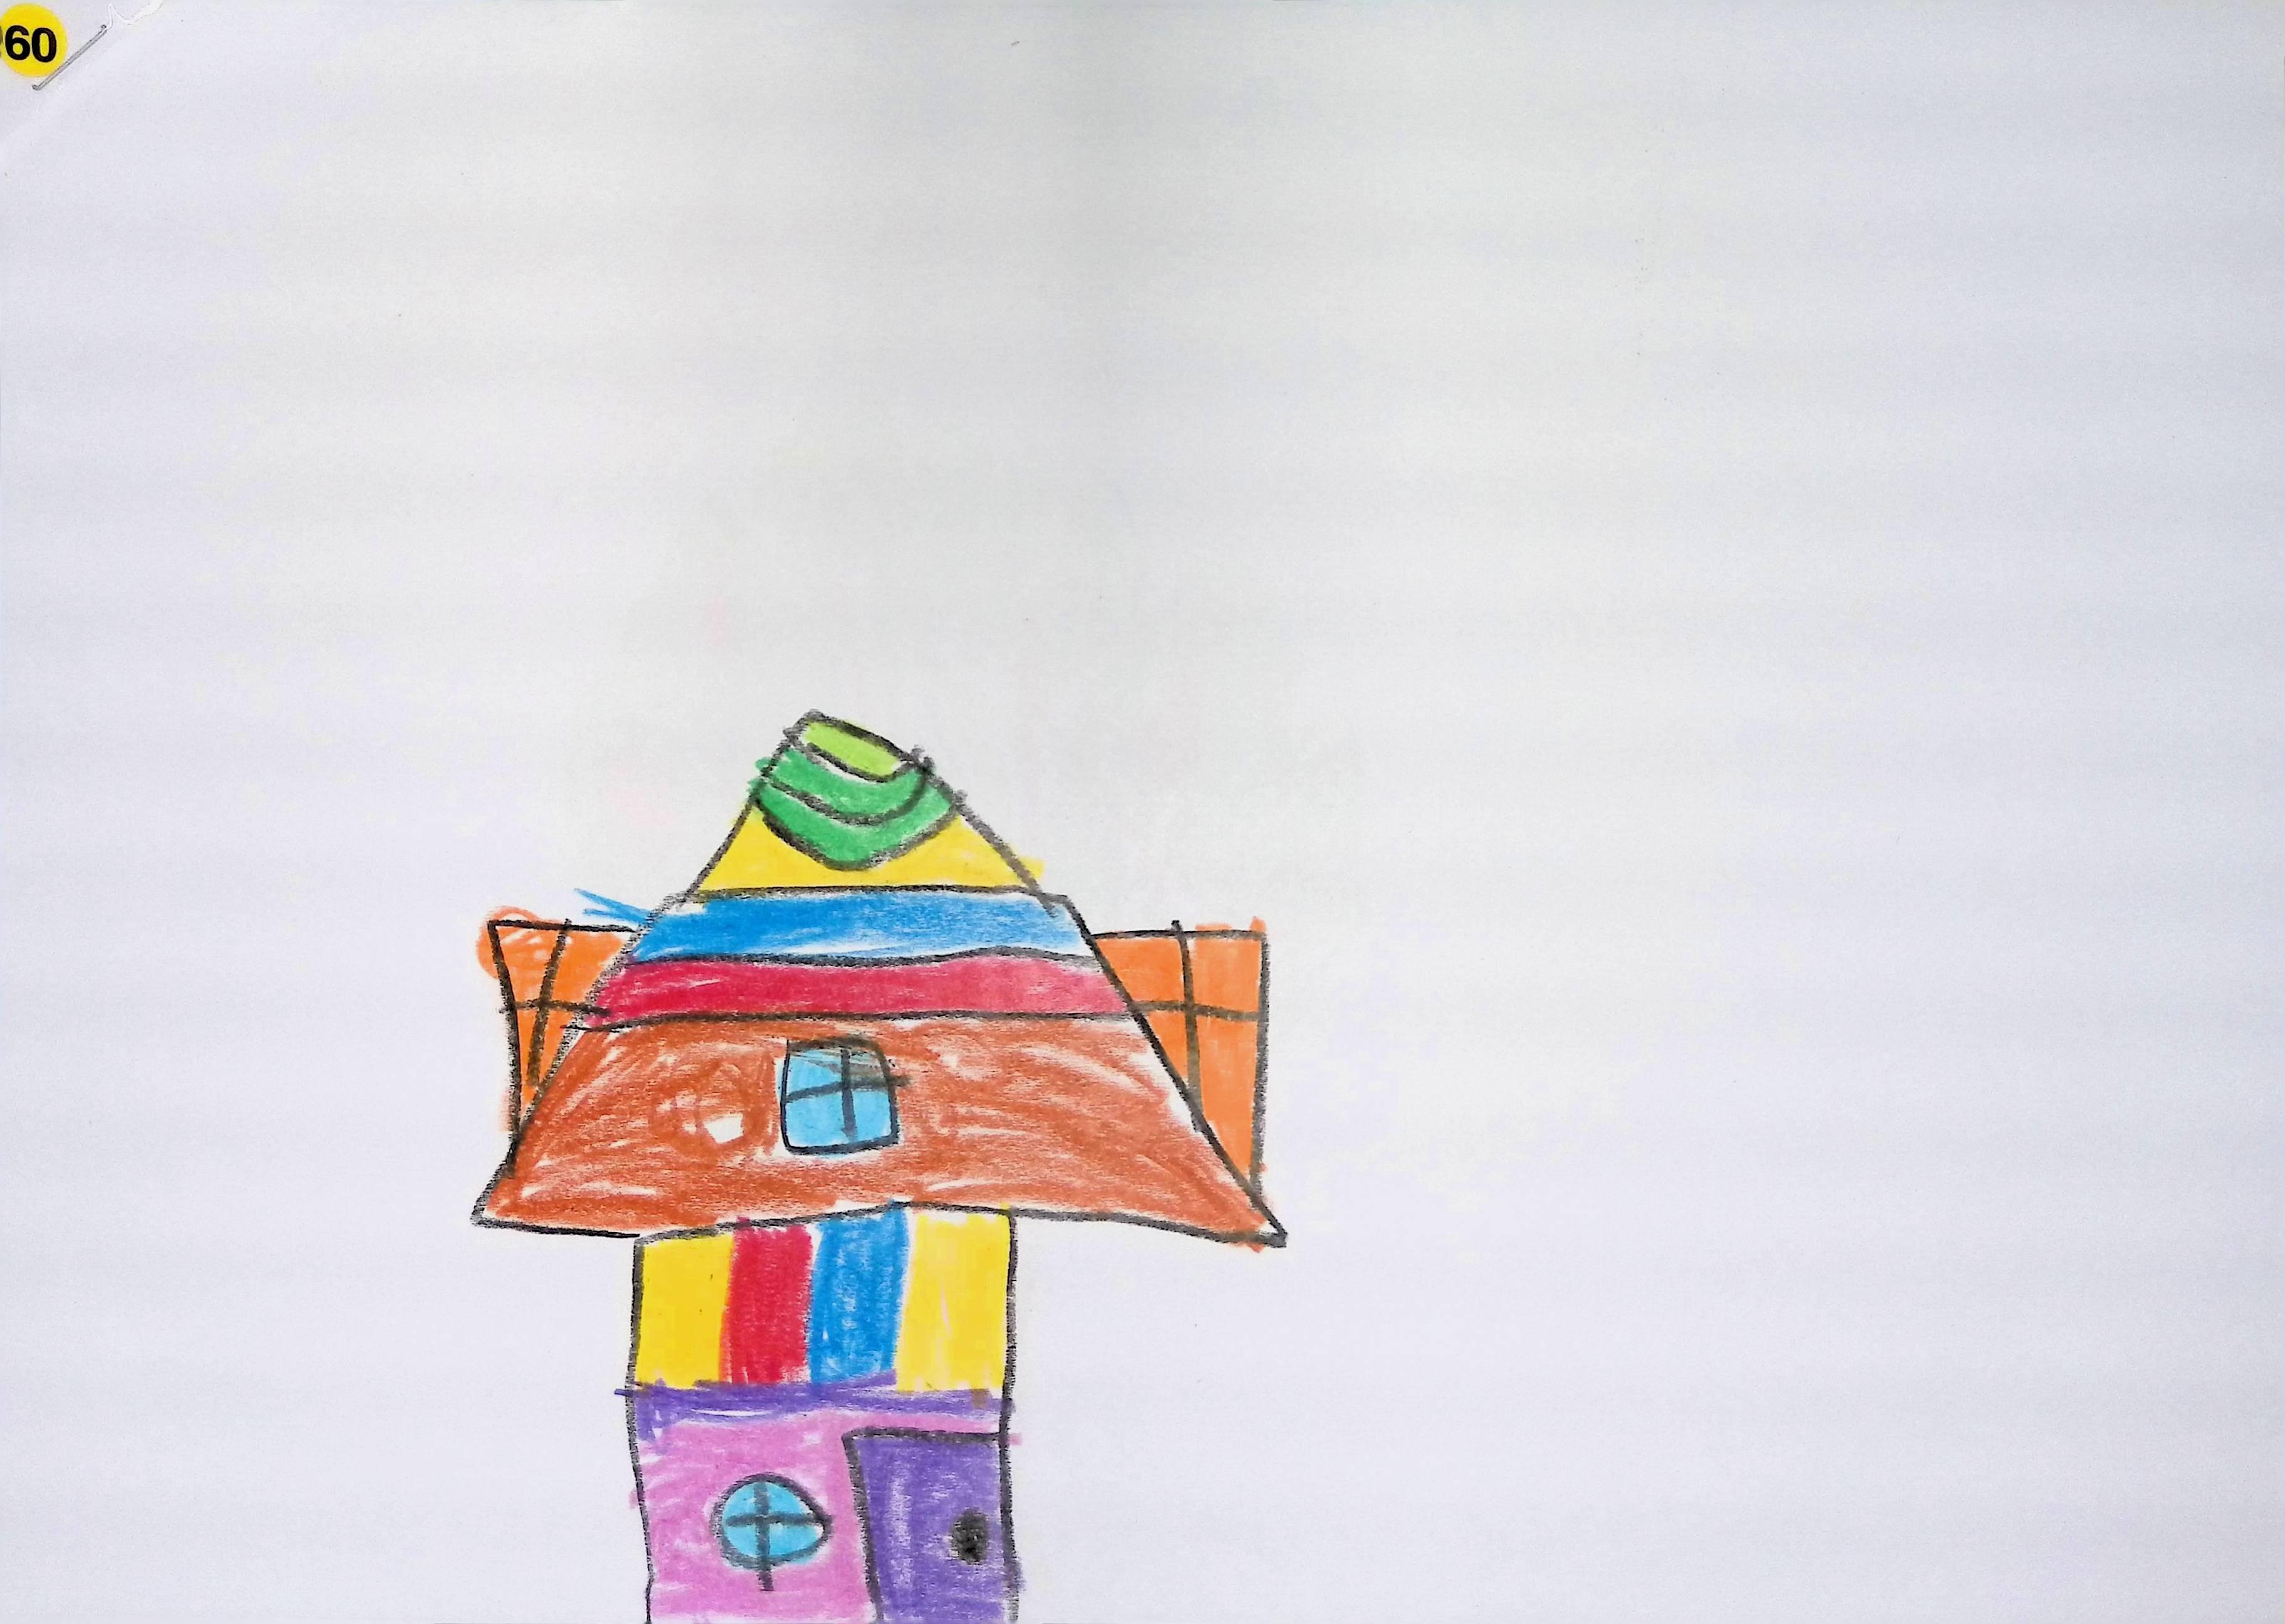door: (842, 1429, 1018, 1624)
house: (473, 712, 1285, 1624)
roof: (475, 714, 1285, 1246)
wall: (624, 1207, 1018, 1624)
window: (780, 1039, 898, 1153), (712, 1478, 830, 1591)
